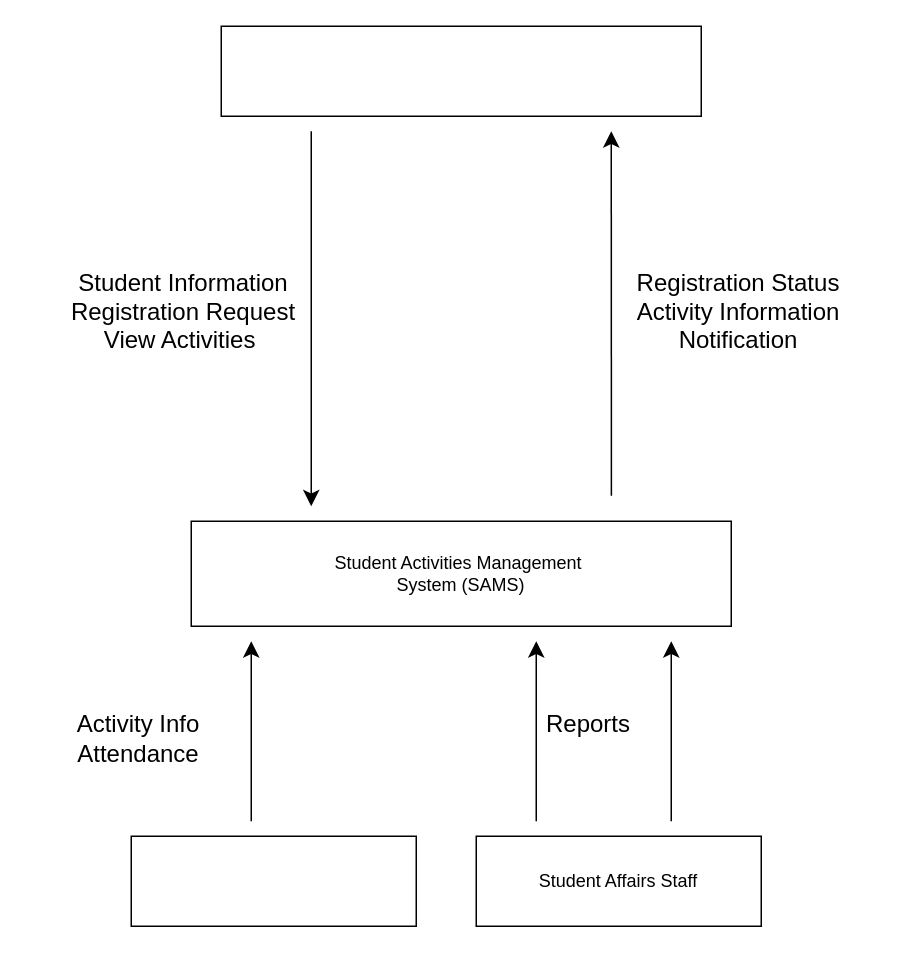
Some shapes in this 914 by 953 pixel diagram are drawn without their labels. The shapes that lost their labels are listed below. From the top down, each one's centre as x and y in pixels, then its label:
(460,70): Student
(273,880): Activity Organizer
